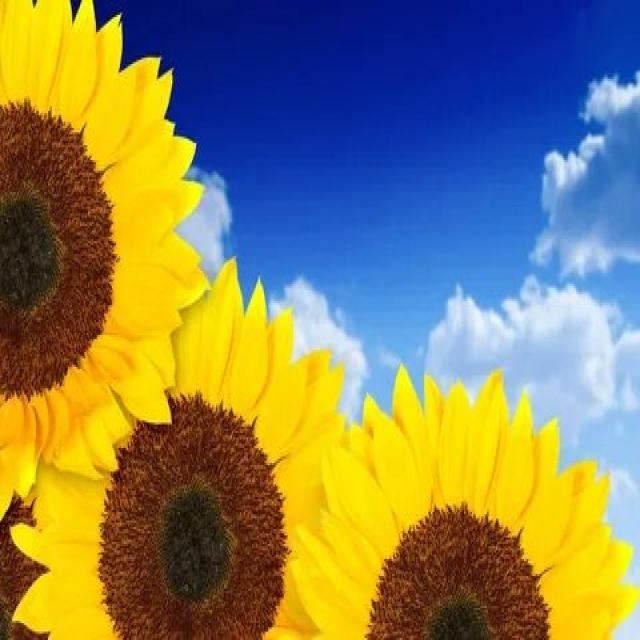sunflower: (20, 245, 343, 640), (1, 2, 224, 510), (304, 307, 640, 640)
